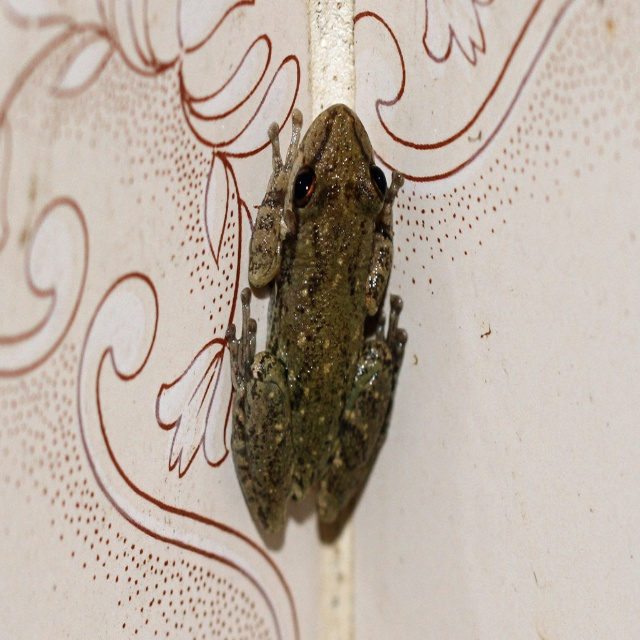Frog: (223, 100, 408, 541)
